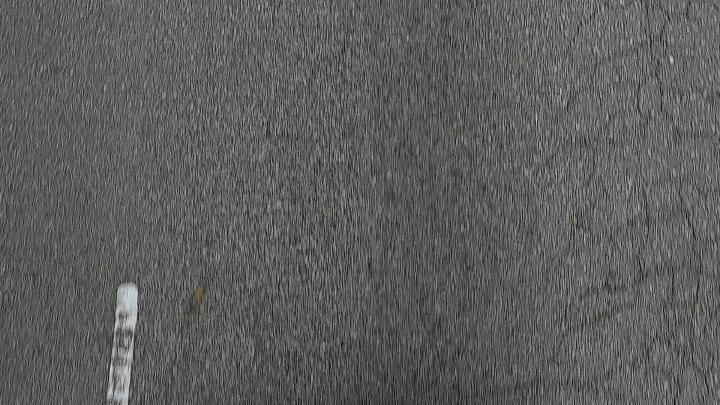Crack: (677, 197, 720, 372), (641, 1, 693, 136), (686, 204, 715, 376), (654, 1, 679, 129)
Lane: (93, 271, 161, 405), (107, 283, 137, 404)
